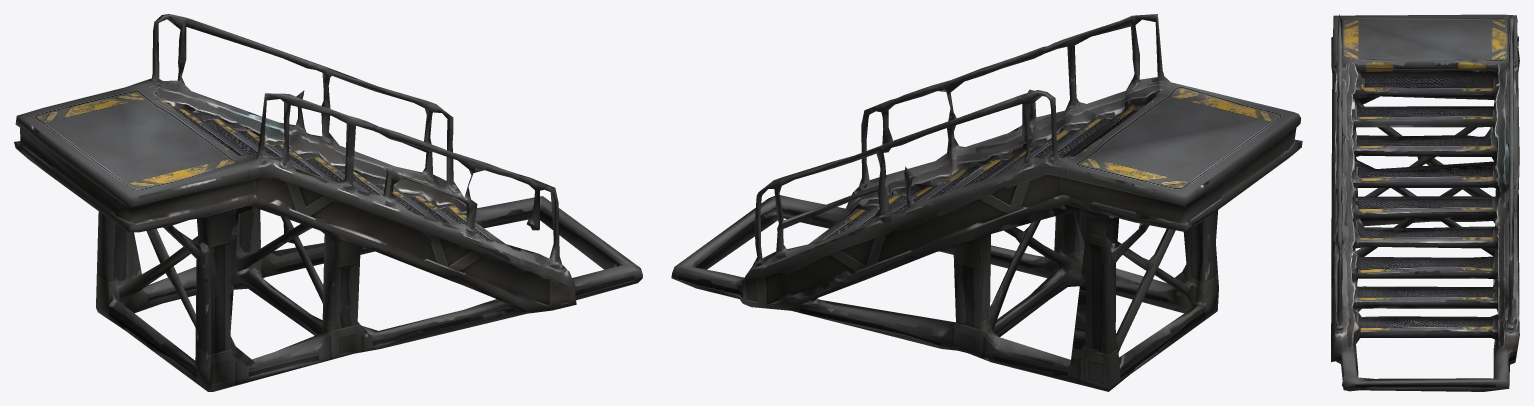
File: escalier.glb
3 views of the same model, side by side, from view 1: azimuth 30°, elevation 25°; view 2: azimuth 150°, elevation 25°; view 3: azimuth 270°, elevation 25° (orthographic). The views are drawn at different scales.
Visible parts, largest first — view 1: tripo_node_7a6436ec-5584-4a46-9801-566adf6768f4; view 2: tripo_node_7a6436ec-5584-4a46-9801-566adf6768f4; view 3: tripo_node_7a6436ec-5584-4a46-9801-566adf6768f4.
Boxes of the visible parts, x1,y1,x2,y2 form: tripo_node_7a6436ec-5584-4a46-9801-566adf6768f4: [14, 14, 642, 391]; tripo_node_7a6436ec-5584-4a46-9801-566adf6768f4: [671, 14, 1302, 391]; tripo_node_7a6436ec-5584-4a46-9801-566adf6768f4: [1331, 14, 1519, 391].
Size of the model in its own units: 0.999 by 0.5206 by 0.3876.
Materials: 1 (1 with a texture image).
